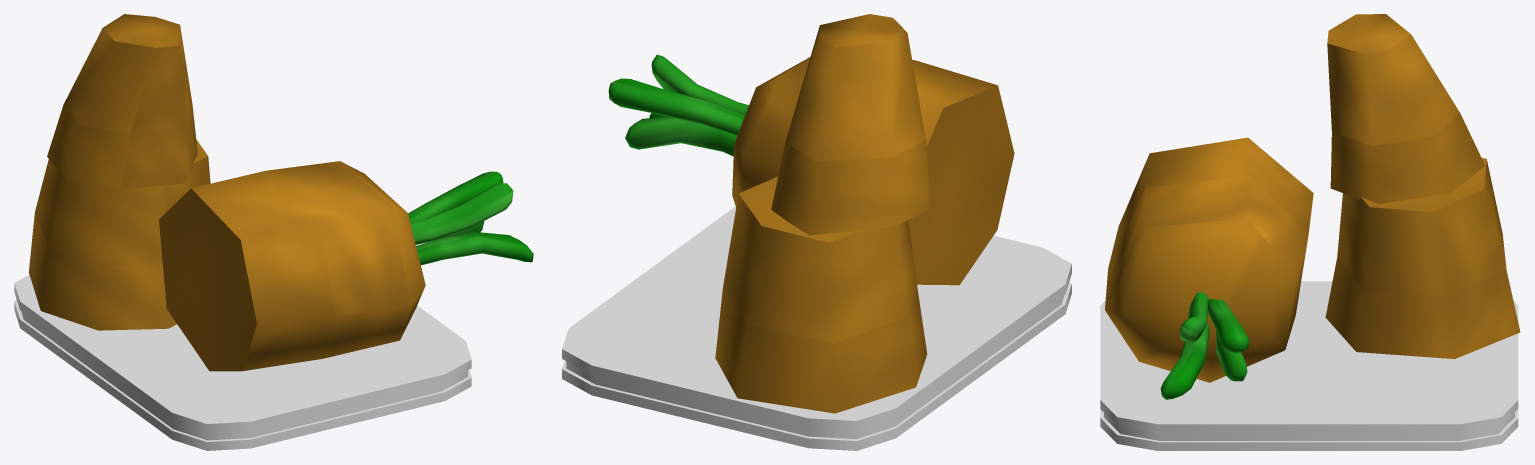
The model's file is CarrotChoppedBoard.fbx.
The picture shows the model from 3 angles, left to right: view 1: azimuth 30°, elevation 25°; view 2: azimuth 150°, elevation 25°; view 3: azimuth 270°, elevation 25°; orthographic projection. The views are drawn at different scales.
Parts seen in each view (by area): view 1: CarrotCut6.003, ChoppingBoard; view 2: CarrotCut6.003, ChoppingBoard; view 3: CarrotCut6.003, ChoppingBoard.
Boxes of the visible parts, <box> form: CarrotCut6.003: <box>29,14,533,371</box>; ChoppingBoard: <box>14,274,471,450</box>; CarrotCut6.003: <box>608,14,1014,413</box>; ChoppingBoard: <box>562,206,1071,450</box>; CarrotCut6.003: <box>1105,14,1520,399</box>; ChoppingBoard: <box>1100,281,1518,450</box>.
Bounding box in the file's own units: 300 × 247 × 297.
